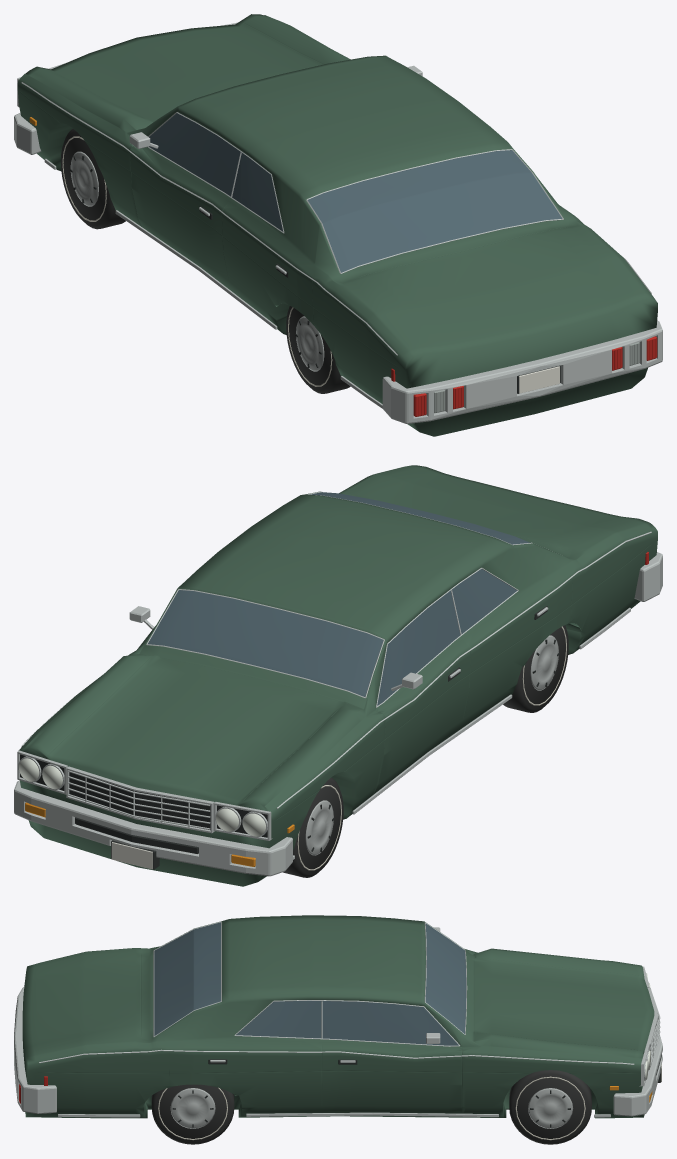
File: impala1970.glb
The picture shows the model from 3 angles, top to bottom: view 1: azimuth 30°, elevation 25°; view 2: azimuth 150°, elevation 25°; view 3: azimuth 270°, elevation 25°; orthographic projection. The views are drawn at different scales.
Visible parts, largest first — view 1: body, glass_envelope, bumper_rear, trim_body_chrome, wheel_fl, wheel_rl, trim_rim_fl, lamp_taillights, trim_rim_rl, bumper_front, plate_registration; view 2: body, glass_envelope, trim_body_chrome, bumper_front, trim_seals_and_recesses, wheel_fl, wheel_rl, lamp_headlights, trim_rim_fl, trim_rim_rl, bumper_rear, plate_registration; view 3: body, glass_envelope, trim_body_chrome, wheel_fr, wheel_rr, bumper_rear, trim_rim_rr, trim_rim_fr, bumper_front, trim_rim_whitewall_fr.
Part boxes in pixels (<box>): body: <box>17,14,657,436</box>; glass_envelope: <box>149,113,562,272</box>; bumper_rear: <box>382,320,662,423</box>; trim_body_chrome: <box>17,20,651,408</box>; wheel_fl: <box>60,129,125,229</box>; wheel_rl: <box>286,306,350,393</box>; trim_rim_fl: <box>70,151,98,206</box>; lamp_taillights: <box>391,336,657,416</box>; trim_rim_rl: <box>296,316,324,371</box>; bumper_front: <box>14,113,41,154</box>; plate_registration: <box>519,366,559,393</box>; body: <box>18,465,657,886</box>; glass_envelope: <box>148,492,530,705</box>; trim_body_chrome: <box>17,491,651,859</box>; bumper_front: <box>14,780,292,876</box>; trim_seals_and_recesses: <box>20,606,547,869</box>; wheel_fl: <box>283,777,343,877</box>; wheel_rl: <box>503,625,568,712</box>; lamp_headlights: <box>19,758,265,836</box>; trim_rim_fl: <box>305,800,333,855</box>; trim_rim_rl: <box>530,635,558,690</box>; bumper_rear: <box>634,552,662,601</box>; plate_registration: <box>111,842,152,869</box>; body: <box>22,915,654,1118</box>; glass_envelope: <box>154,922,466,1045</box>; trim_body_chrome: <box>39,921,660,1117</box>; wheel_fr: <box>509,1070,591,1144</box>; wheel_rr: <box>151,1084,234,1144</box>; bumper_rear: <box>14,987,56,1113</box>; trim_rim_rr: <box>170,1088,215,1128</box>; trim_rim_fr: <box>528,1088,573,1128</box>; bumper_front: <box>613,1037,662,1116</box>; trim_rim_whitewall_fr: <box>515,1076,585,1140</box>.
Bounding box in the file's own units: 2.21 × 1.4 × 5.49.
